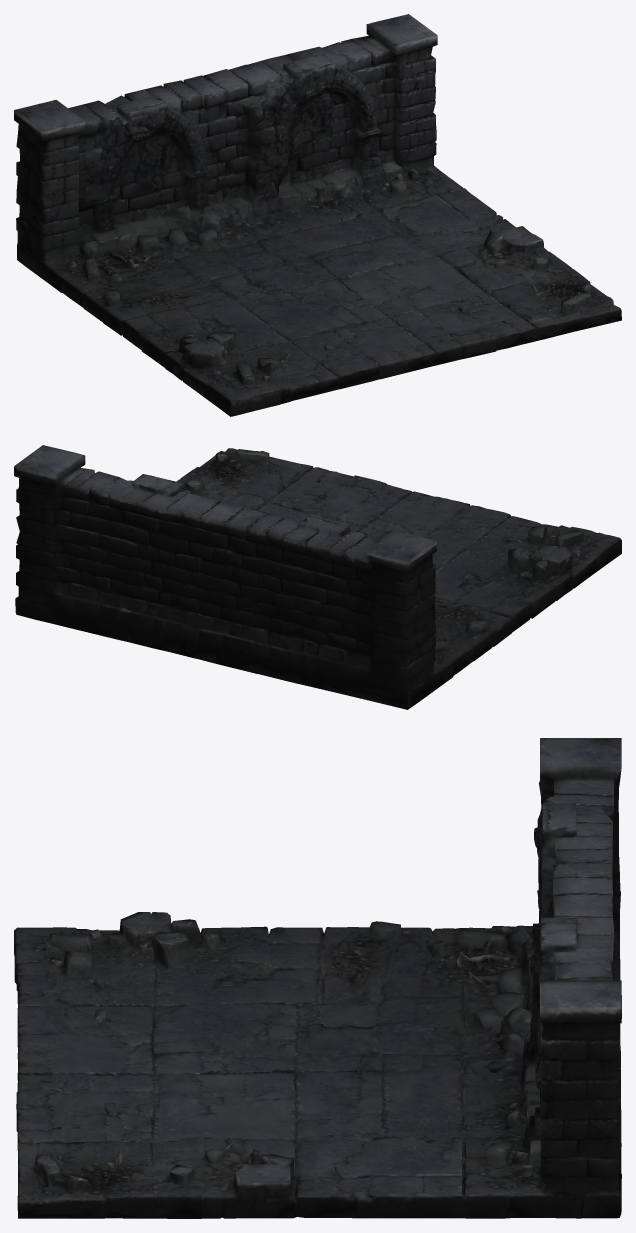
Rendered from tile.room.1-wall.glb.
3 views of the same model, one above another, from view 1: azimuth 30°, elevation 25°; view 2: azimuth 150°, elevation 25°; view 3: azimuth 270°, elevation 25° (orthographic). The views are drawn at different scales.
Visible parts, largest first — view 1: tripo_node_9da8ee24-cacf-4419-b9a2-437e0f1bc8db; view 2: tripo_node_9da8ee24-cacf-4419-b9a2-437e0f1bc8db; view 3: tripo_node_9da8ee24-cacf-4419-b9a2-437e0f1bc8db.
Boxes of the visible parts, x1,y1,x2,y2 form: tripo_node_9da8ee24-cacf-4419-b9a2-437e0f1bc8db: (14, 14, 621, 416); tripo_node_9da8ee24-cacf-4419-b9a2-437e0f1bc8db: (14, 445, 621, 709); tripo_node_9da8ee24-cacf-4419-b9a2-437e0f1bc8db: (14, 738, 621, 1218).
Size of the model in its own units: 0.9999 by 0.3629 by 0.9474.
Materials: 1 (1 with a texture image).
